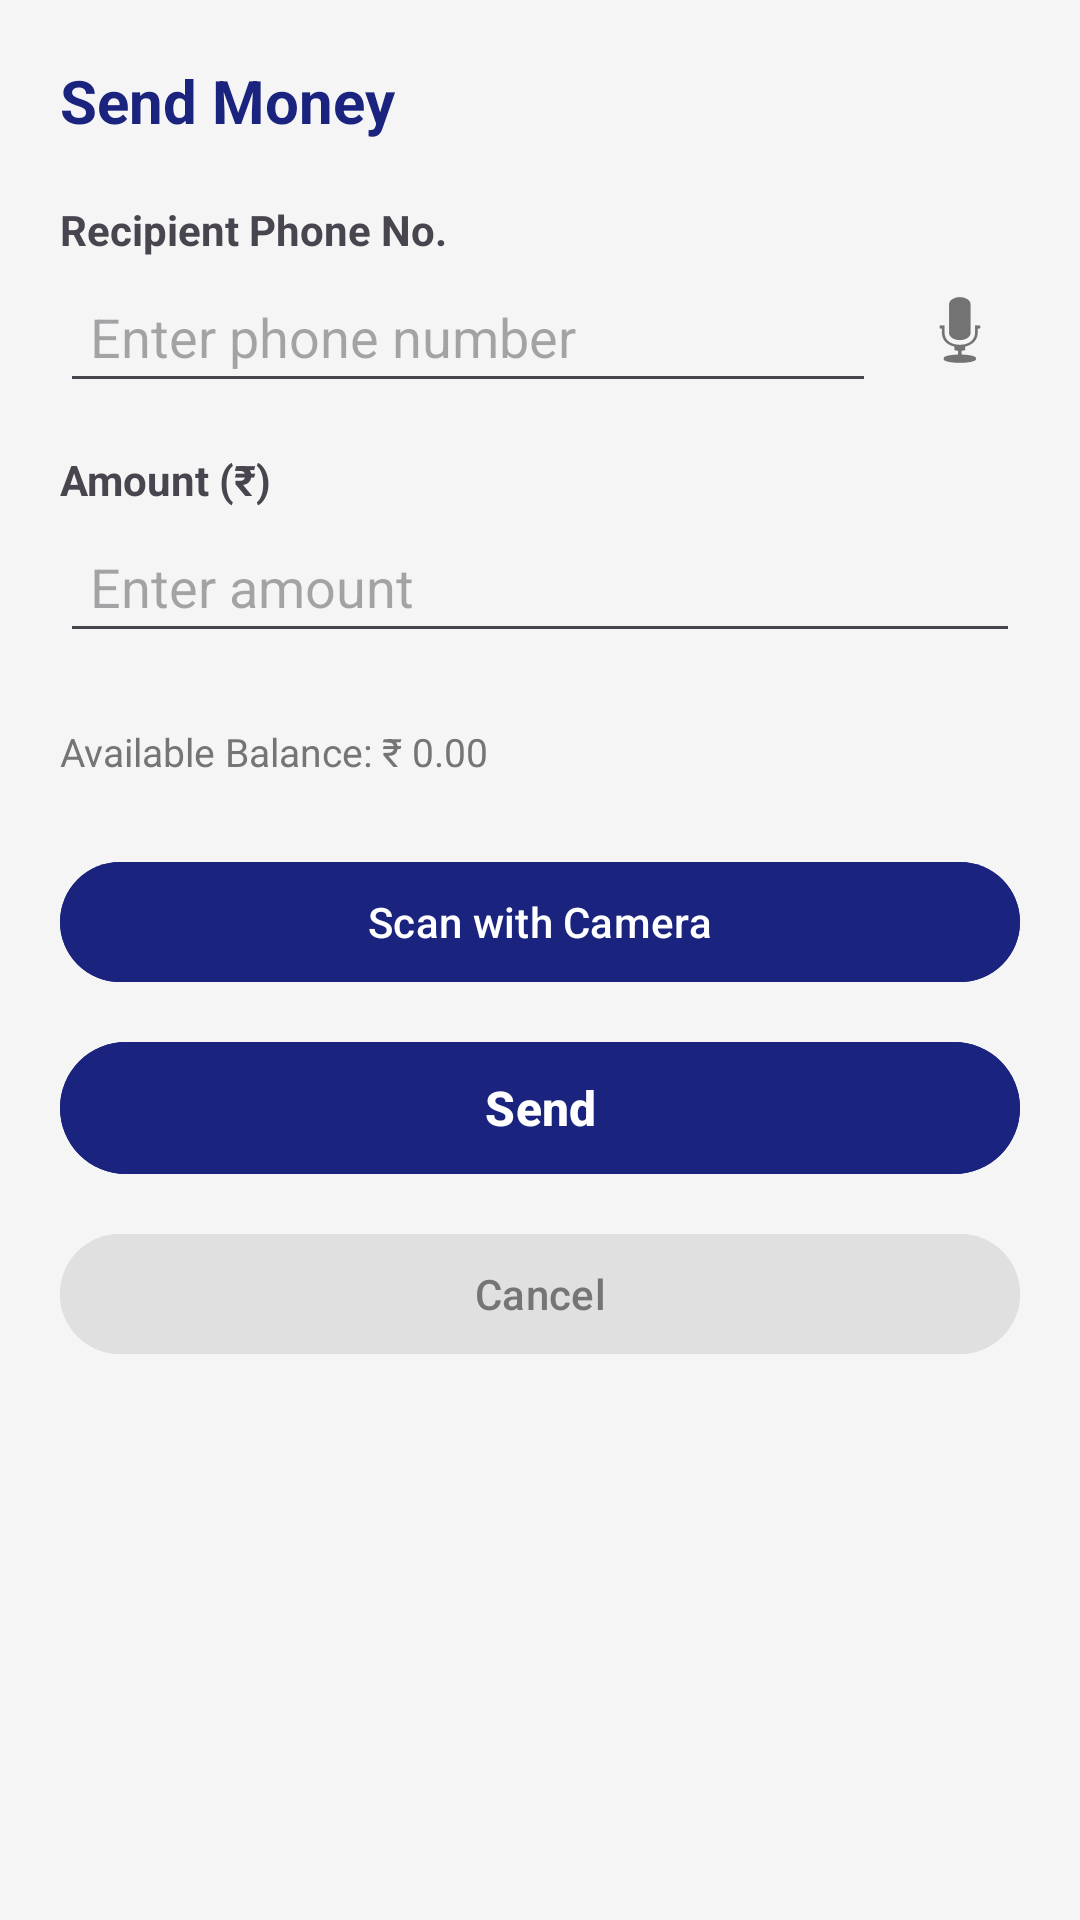

Named icons in this screenshot (1080×1920) and their bounding boxes, (x1, y1, x2, y2):
Speak phone number: (939, 297, 981, 363)
